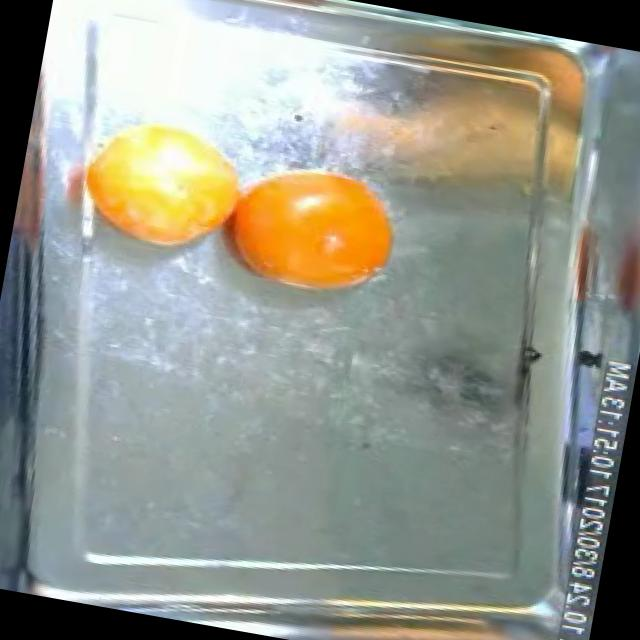Fruit: (57, 94, 270, 276), (206, 142, 416, 318)
